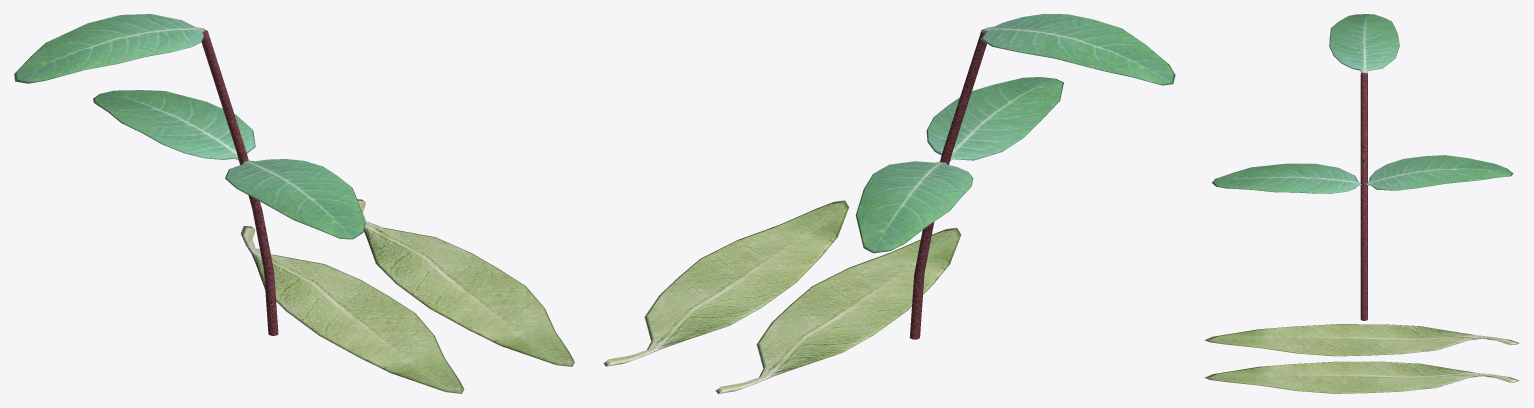
The model's file is luobumaye.FBX.
3 renders of one model, left to right at view 1: azimuth 30°, elevation 25°; view 2: azimuth 150°, elevation 25°; view 3: azimuth 270°, elevation 25°, orthographic. The views are drawn at different scales.
Visible parts, largest first — view 1: Line005, Line002, Line004, Line001, Line003, Cylinder001; view 2: Line005, Line002, Line004, Line003, Line001, Cylinder001; view 3: Line005, Line002, Line003, Line001, Line004, Cylinder001.
Part boxes in pixels (left/top/right/bottom): Line005: left=357, top=199, right=574, bottom=366; Line002: left=240, top=226, right=464, bottom=393; Line004: left=14, top=14, right=206, bottom=83; Line001: left=225, top=159, right=365, bottom=239; Line003: left=93, top=90, right=255, bottom=160; Cylinder001: left=201, top=30, right=278, bottom=335; Line005: left=603, top=200, right=848, bottom=366; Line002: left=716, top=227, right=961, bottom=393; Line004: left=981, top=14, right=1175, bottom=85; Line003: left=855, top=161, right=973, bottom=253; Line001: left=926, top=77, right=1063, bottom=160; Cylinder001: left=909, top=29, right=986, bottom=339; Line005: left=1204, top=361, right=1519, bottom=393; Line002: left=1204, top=324, right=1519, bottom=356; Line003: left=1366, top=155, right=1513, bottom=190; Line001: left=1212, top=163, right=1362, bottom=193; Line004: left=1329, top=14, right=1399, bottom=73; Cylinder001: left=1360, top=73, right=1367, bottom=320.
Bounding box in the file's own units: 59.27 × 38.61 × 47.66.
1 material, 1 textured.
